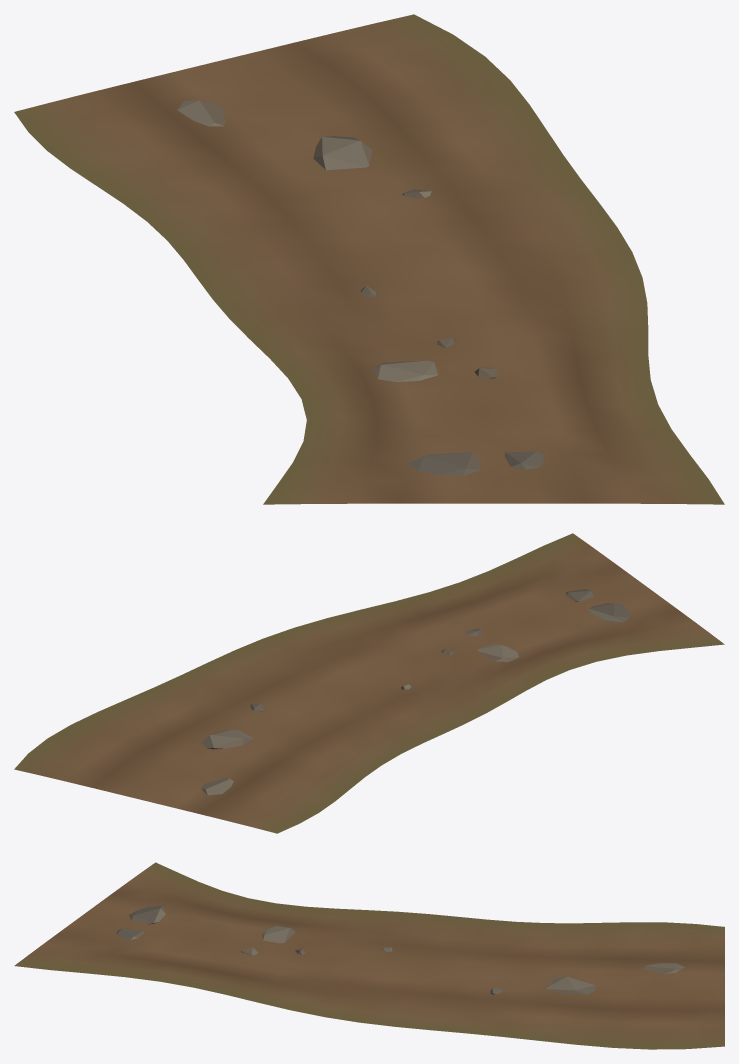
The model's file is path_curve30_left.glb.
3 renders of one model, top to bottom at view 1: azimuth 30°, elevation 25°; view 2: azimuth 150°, elevation 25°; view 3: azimuth 270°, elevation 25°, orthographic. The views are drawn at different scales.
Parts seen in each view (by area): view 1: orchard_path_curve30_left_Ground; view 2: orchard_path_curve30_left_Ground; view 3: orchard_path_curve30_left_Ground.
Boxes of the visible parts, x1,y1,x2,y2 form: orchard_path_curve30_left_Ground: (14, 14, 724, 504); orchard_path_curve30_left_Ground: (14, 533, 724, 833); orchard_path_curve30_left_Ground: (14, 862, 724, 1049).
Bounding box in the file's own units: 2.64 × 0.0387 × 4.24.
